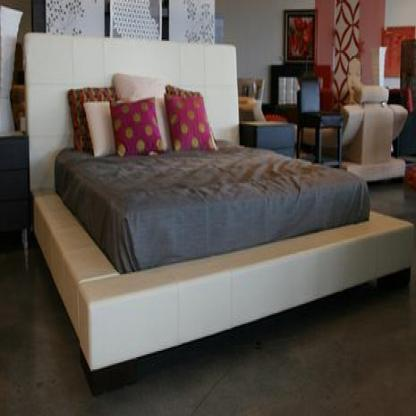Bed: (17, 23, 416, 402)
